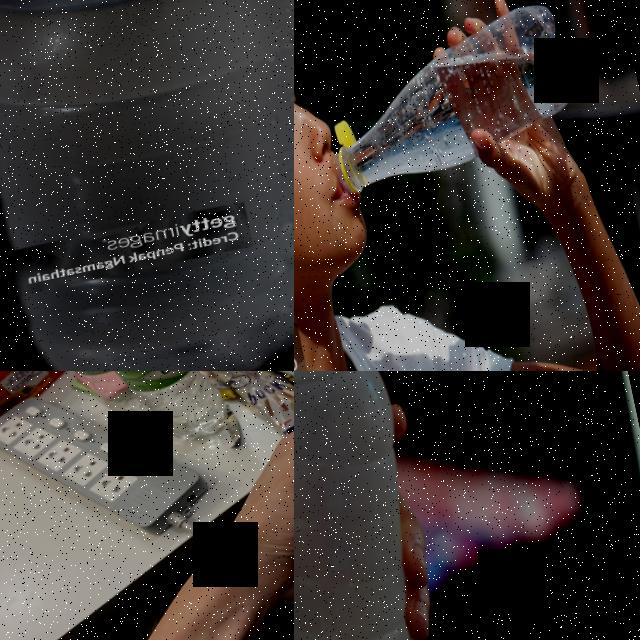bottle: (0, 0, 294, 371), (312, 0, 588, 196), (294, 371, 464, 640), (80, 371, 232, 460), (20, 371, 154, 445)
